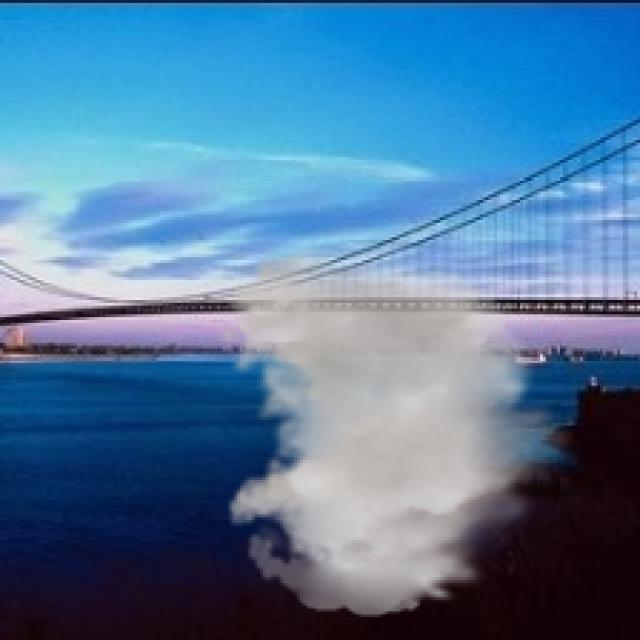smoke: (214, 252, 580, 617)
